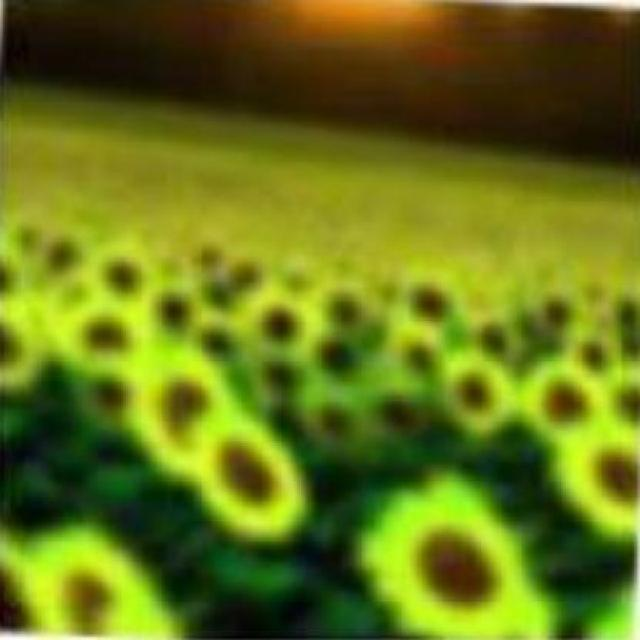sunflower: (349, 468, 564, 640), (182, 408, 314, 545), (547, 417, 640, 543), (437, 346, 519, 443)
